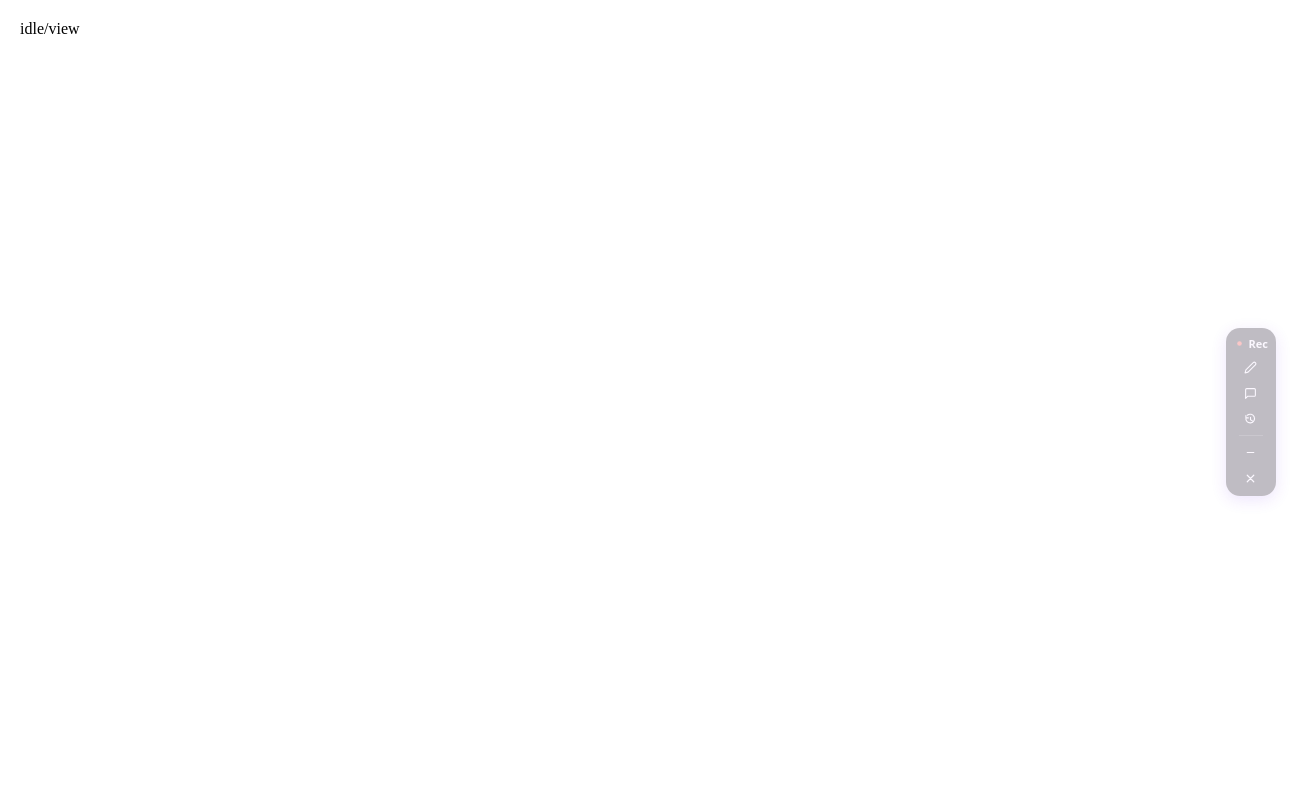
Test case: edit mode — pencil toggle › the pencil enters and exits edit mode
Click the button named "Edit" at coordinates (1251, 367), box top-left (1240, 356), bottom-right (1262, 378)
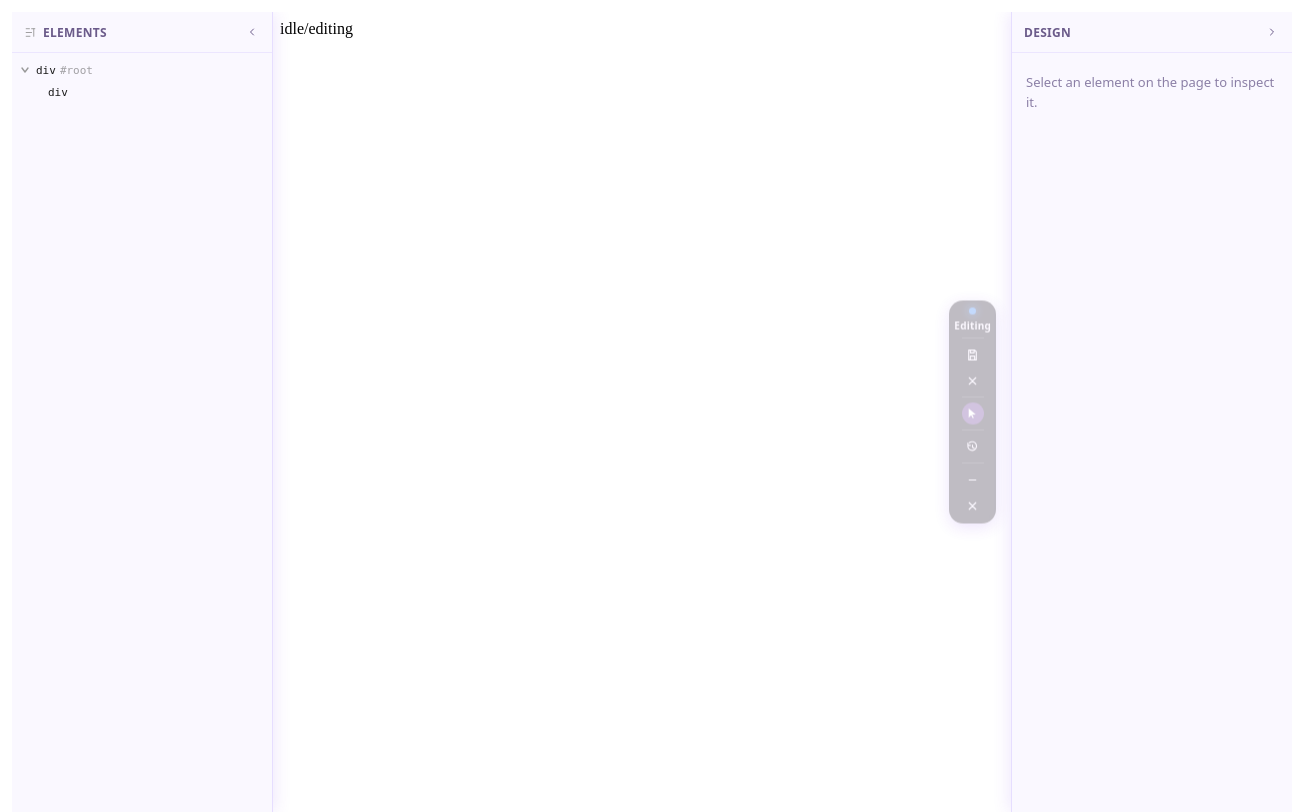
Expected: the element with class "editing" is shown, top-left (949, 300), bottom-right (996, 524)
Expected: the text with test id "probe" reads "idle/editing", top-left (280, 20), bottom-right (353, 37)
Cancel (X) exits edit mode and the pencil returns.
Click the button named "Cancel" at coordinates (973, 380), box top-left (962, 370), bottom-right (984, 392)
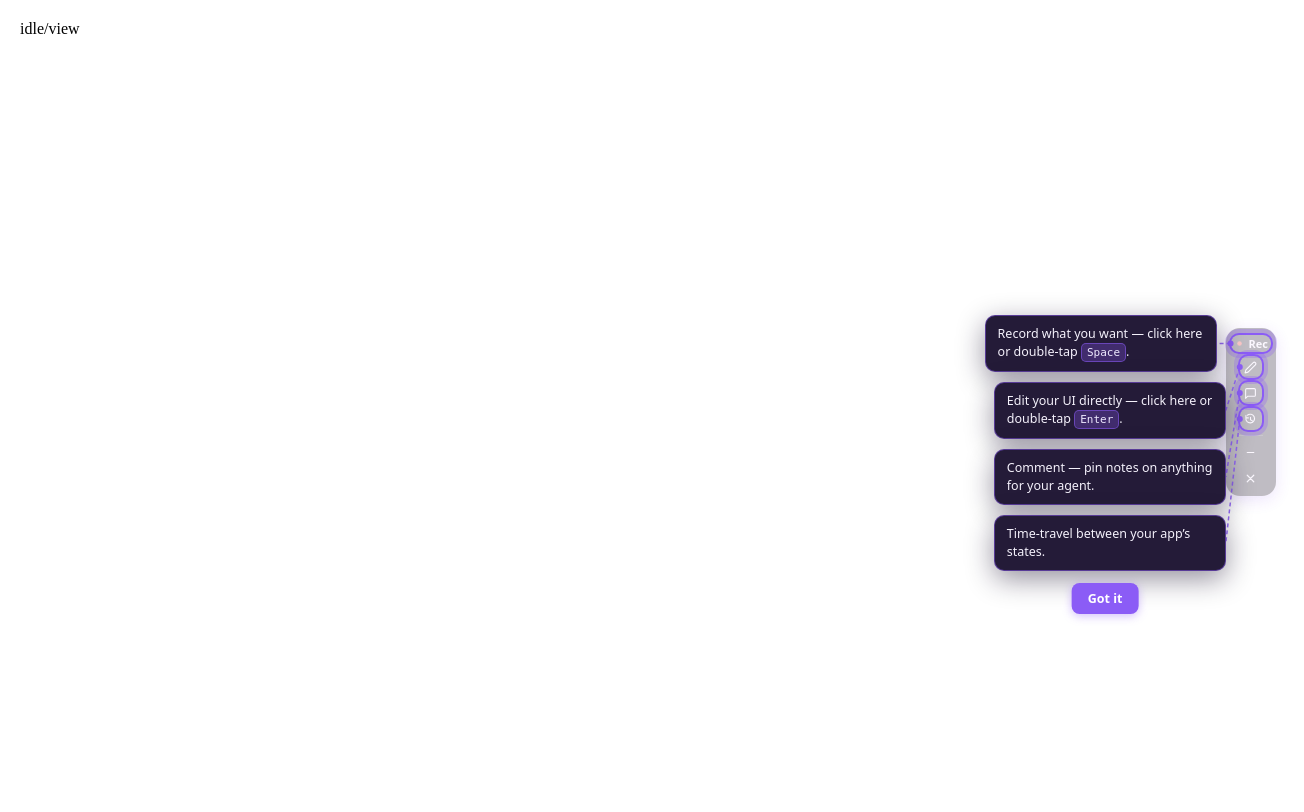
Expected: the text with test id "probe" reads "idle/view", top-left (20, 20), bottom-right (80, 37)
